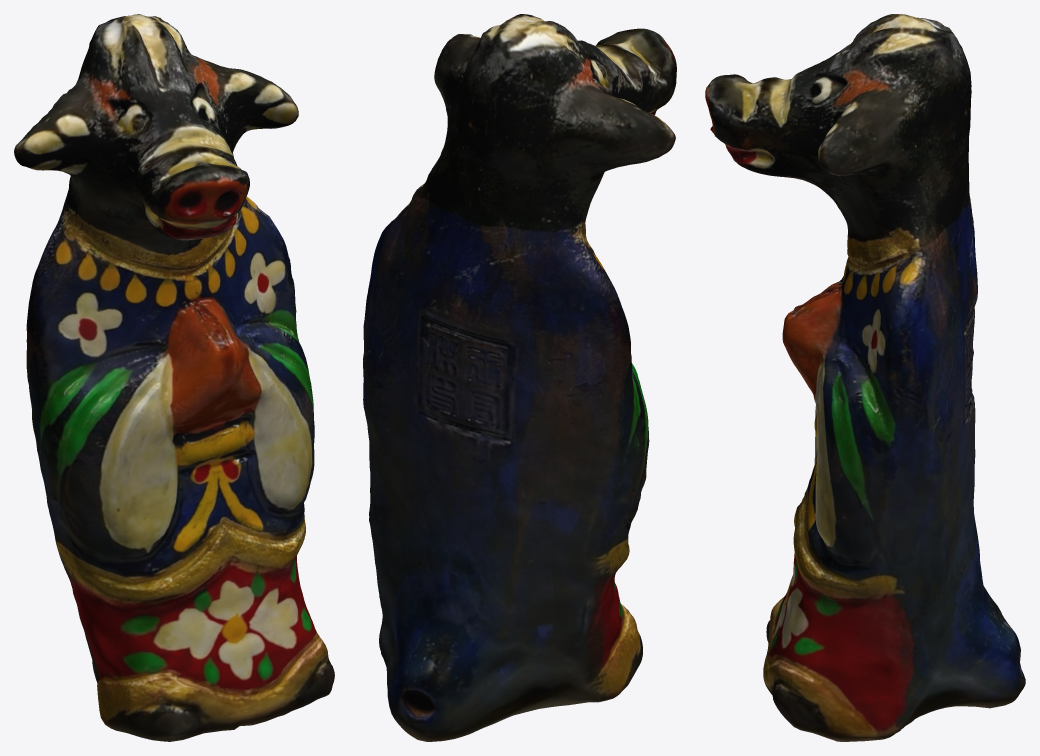
3 views of the same model, side by side, from view 1: azimuth 30°, elevation 25°; view 2: azimuth 150°, elevation 25°; view 3: azimuth 270°, elevation 25° (orthographic). The views are drawn at different scales.
Bounding box in the file's own units: 0.2018 × 0.454 × 0.1986.
Materials: 1 (1 with a texture image).
